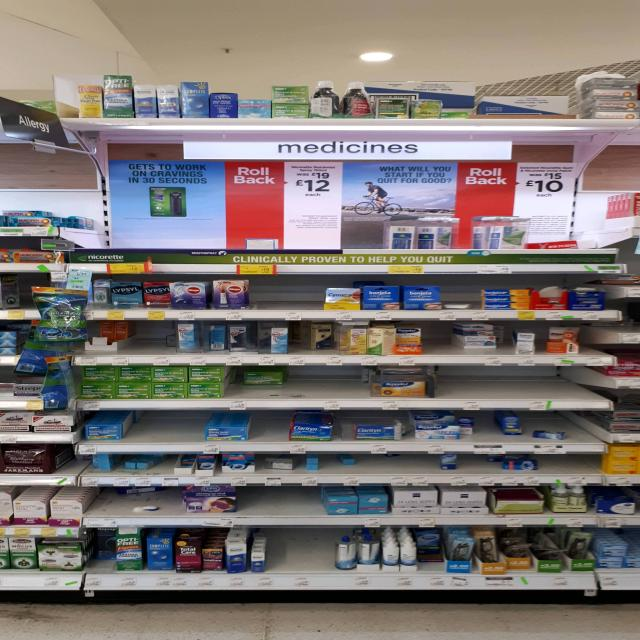empty: (75, 221, 622, 264), (437, 364, 596, 398), (270, 525, 343, 568), (244, 275, 326, 311), (87, 486, 184, 512), (238, 488, 324, 514), (129, 414, 203, 443), (355, 456, 439, 478), (547, 450, 604, 473), (251, 413, 292, 442)
